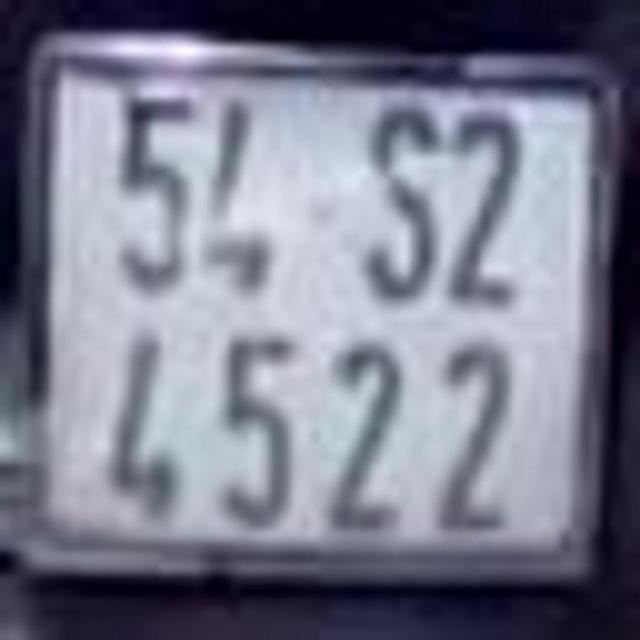2: (326, 343, 406, 531), (440, 341, 516, 536), (457, 113, 522, 306)
4: (115, 332, 176, 524), (214, 121, 277, 289)
5: (222, 320, 293, 529), (123, 88, 196, 285)
S: (369, 104, 449, 299)
